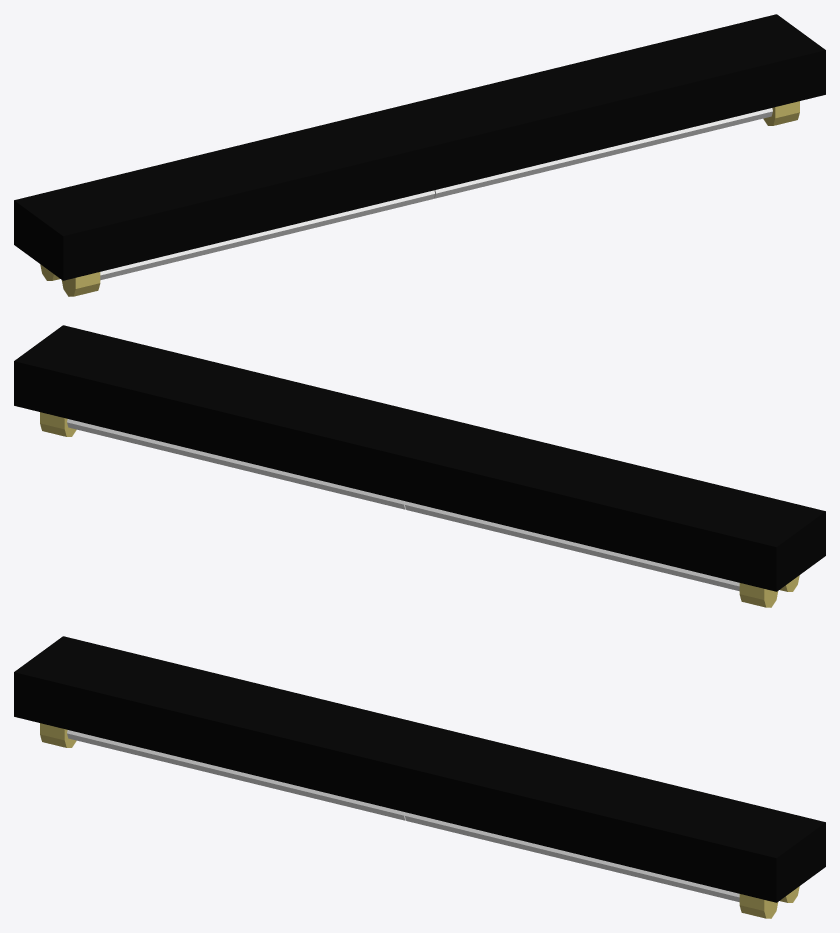
File: M_LS_CeilingLight.fbx
3 views of the same model, one above another, from view 1: azimuth 30°, elevation 25°; view 2: azimuth 150°, elevation 25°; view 3: azimuth 330°, elevation 25° (orthographic).
Visible parts, largest first — view 1: CeilingLight; view 2: CeilingLight; view 3: CeilingLight.
Boxes of the visible parts, x1,y1,x2,y2 form: CeilingLight: (14, 14, 825, 296); CeilingLight: (14, 325, 825, 607); CeilingLight: (14, 636, 825, 918).
Bounding box in the file's own units: 112 × 10.57 × 12.5.
1 material, 1 textured.
